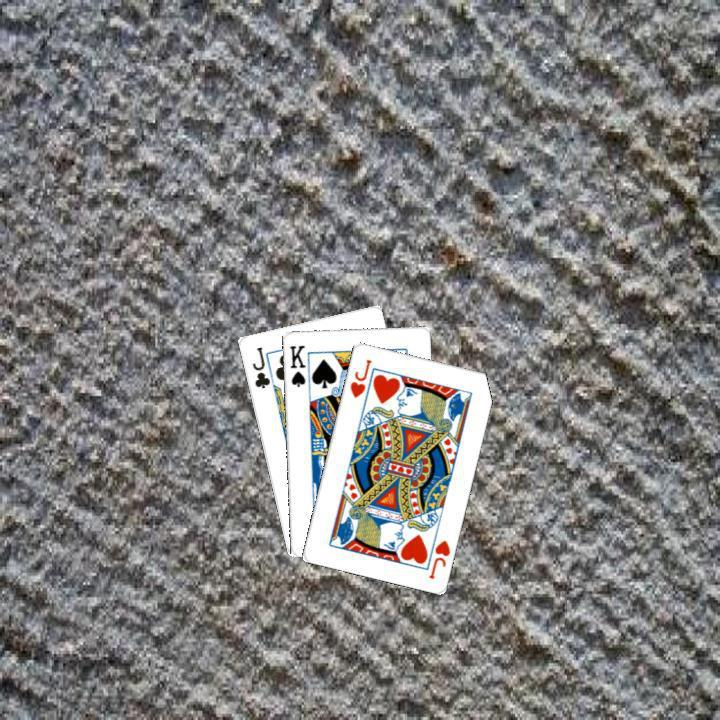J: (345, 355, 373, 400), (424, 535, 452, 580), (247, 342, 272, 390)
K: (285, 340, 307, 389)
